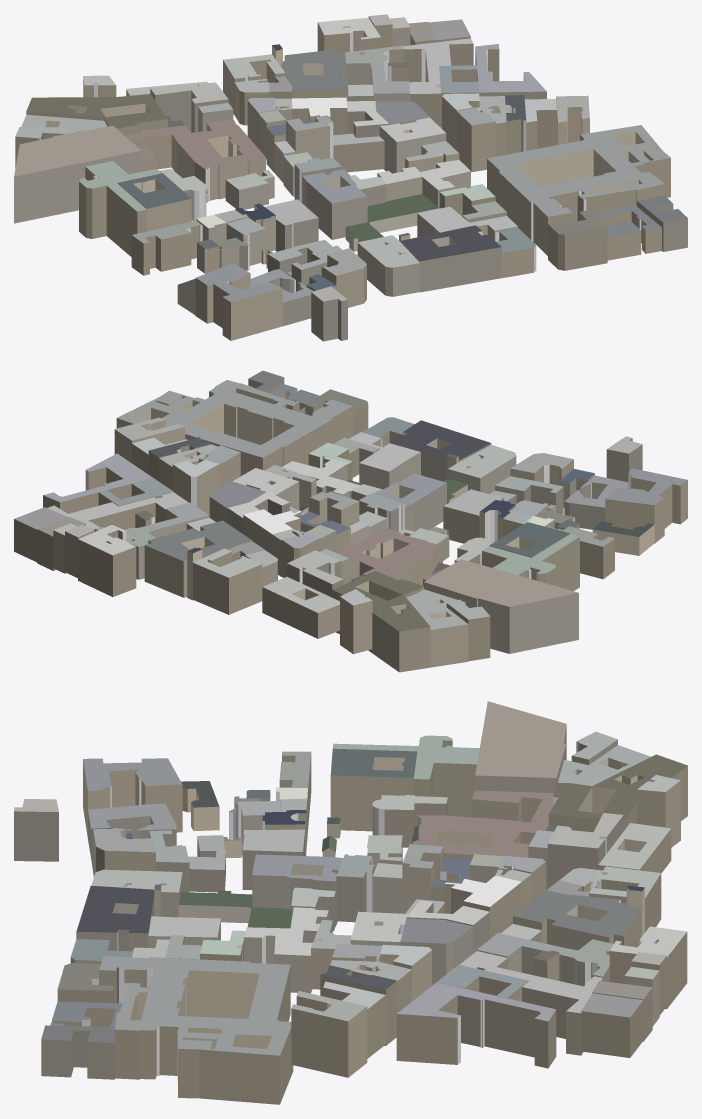
The picture shows the model from 3 angles, top to bottom: view 1: azimuth 30°, elevation 25°; view 2: azimuth 150°, elevation 25°; view 3: azimuth 270°, elevation 25°; orthographic projection. The views are drawn at different scales.
Visible parts, largest first — view 1: tuile; view 2: tuile; view 3: tuile.
Boxes of the visible parts, x1,y1,x2,y2 form: tuile: [14, 14, 687, 341]; tuile: [14, 370, 687, 672]; tuile: [14, 701, 687, 1104].
Size of the model in its own units: 310 by 38.55 by 268.
